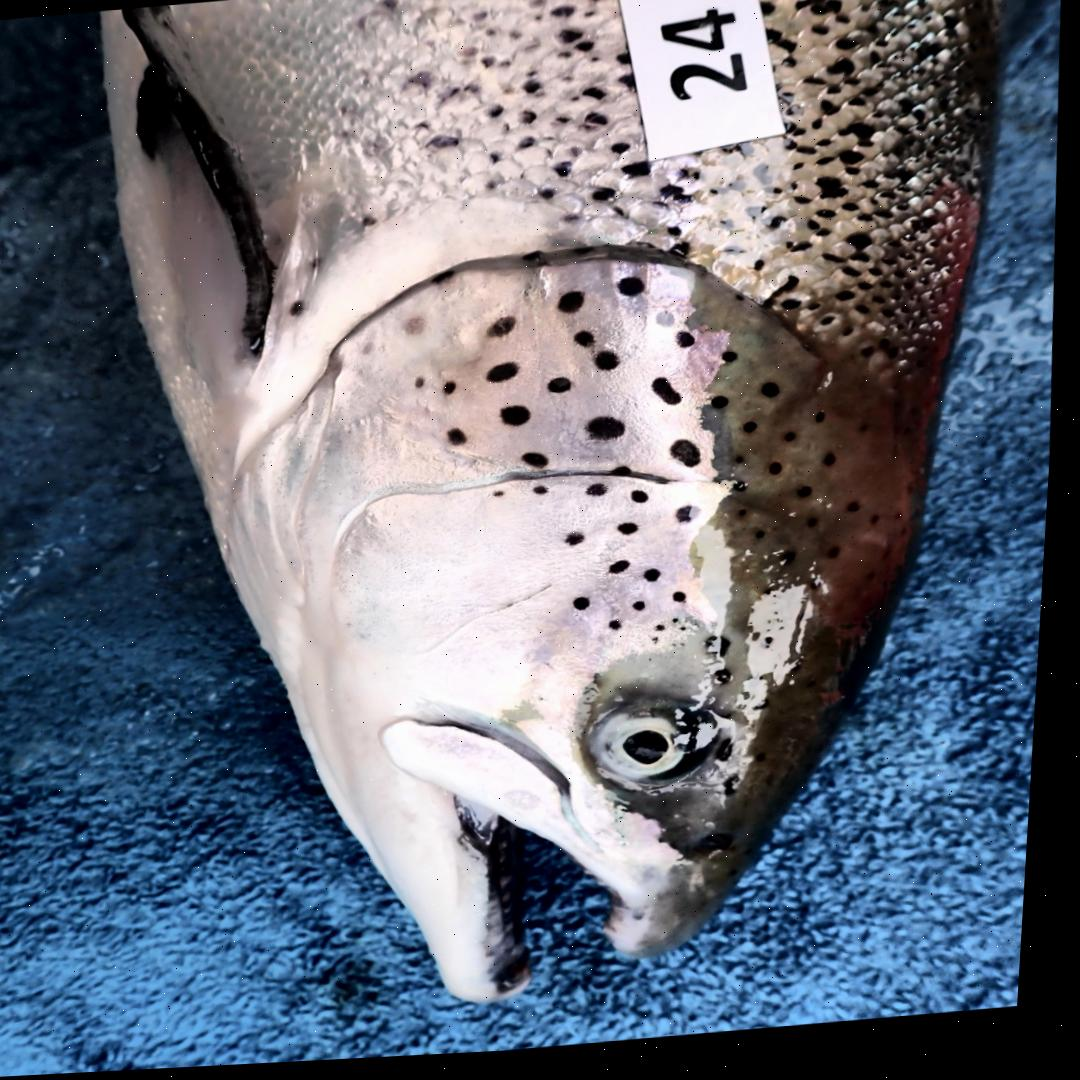spot: (591, 421, 629, 446), (676, 446, 705, 474), (656, 384, 685, 412), (506, 410, 536, 431), (492, 367, 522, 388), (560, 296, 587, 319), (493, 321, 519, 342), (598, 355, 624, 376), (622, 283, 649, 303), (526, 457, 553, 473), (407, 320, 430, 338), (680, 336, 701, 354), (554, 383, 577, 399), (578, 335, 598, 353), (453, 432, 471, 450), (434, 274, 457, 287), (616, 566, 637, 580), (660, 318, 678, 333), (684, 511, 699, 529), (637, 495, 655, 509), (572, 537, 590, 551), (651, 575, 669, 589), (580, 602, 598, 616), (593, 490, 614, 501), (617, 472, 638, 483), (525, 256, 544, 267), (416, 380, 433, 392), (625, 529, 643, 540), (448, 385, 460, 398), (615, 626, 630, 636), (680, 597, 692, 609), (639, 607, 654, 616), (497, 493, 511, 502), (541, 490, 552, 501), (662, 629, 674, 639), (679, 624, 687, 629), (686, 633, 694, 637), (660, 643, 666, 648)
